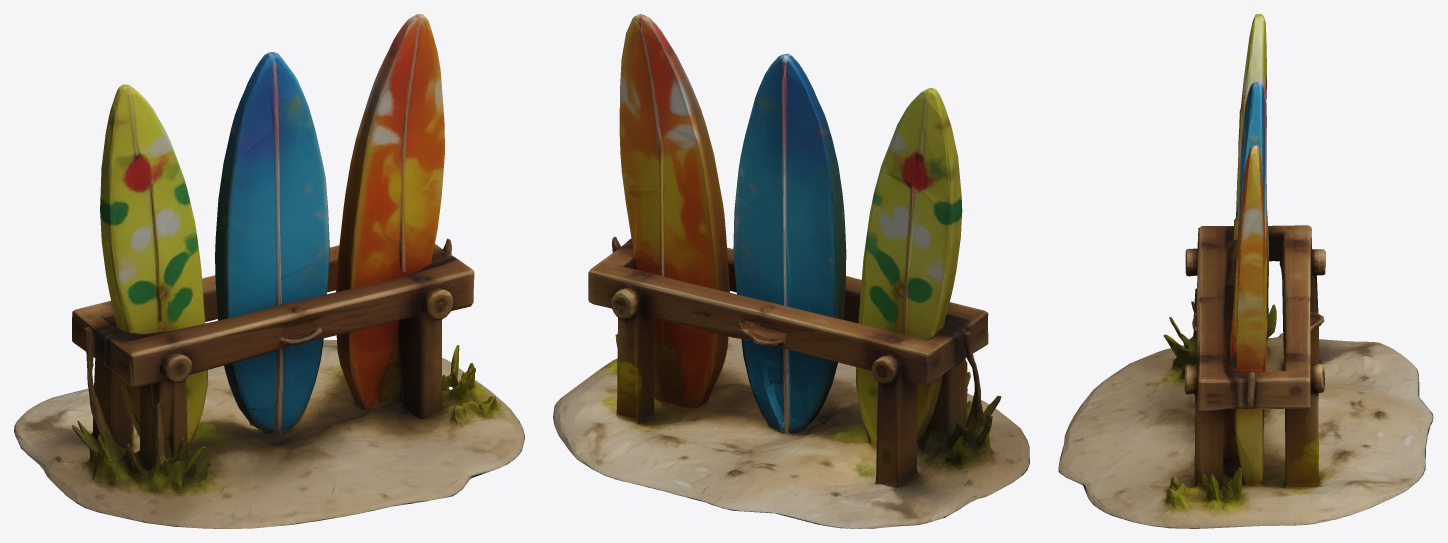
Rendered from surfboard-rack.glb.
3 renders of one model, left to right at view 1: azimuth 30°, elevation 25°; view 2: azimuth 150°, elevation 25°; view 3: azimuth 270°, elevation 25°, orthographic. The views are drawn at different scales.
Visible parts, largest first — view 1: world; view 2: world; view 3: world.
Boxes of the visible parts, x1,y1,x2,y2 form: world: (14,14,524,528); world: (553,14,1029,528); world: (1058,14,1433,528).
Bounding box in the file's own units: 0.9991 × 0.892 × 0.831.
1 material, 1 textured.
